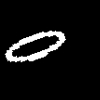chain: (5, 31, 65, 61)
